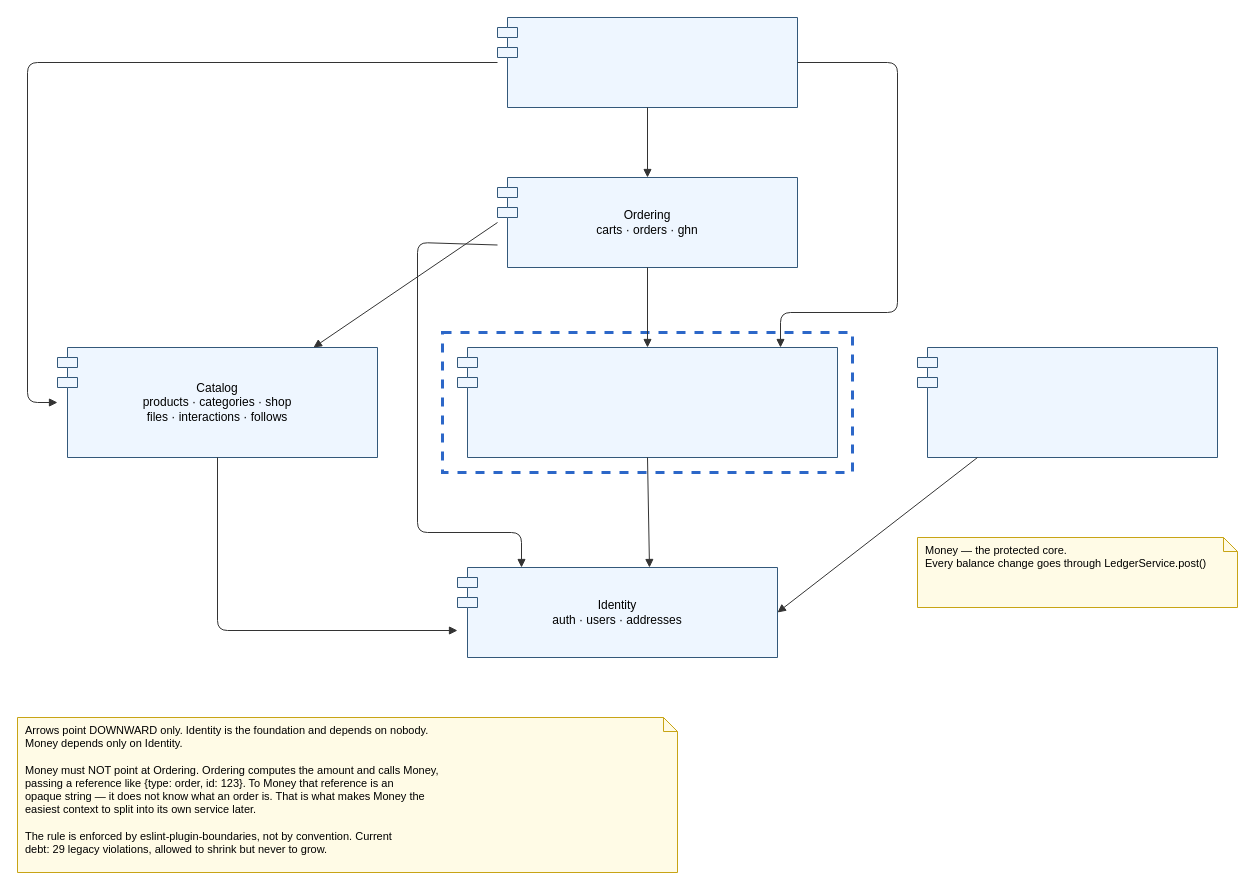
This 1255x890 diagram has some shape labels left out. The shapes that lost their labels are listed below. From the top down, each one's box as (x1, y1, x2, y2) in pixels, then its label:
(496, 16, 798, 108): Ops admin · settings · tasks
(456, 346, 838, 458): Money ledger · wallets · escrows payments · payos · withdrawals
(916, 346, 1218, 458): Messaging chat · notifications · firebase
